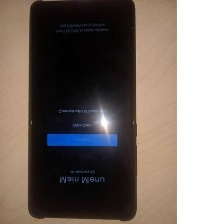phone: (25, 0, 138, 223)
